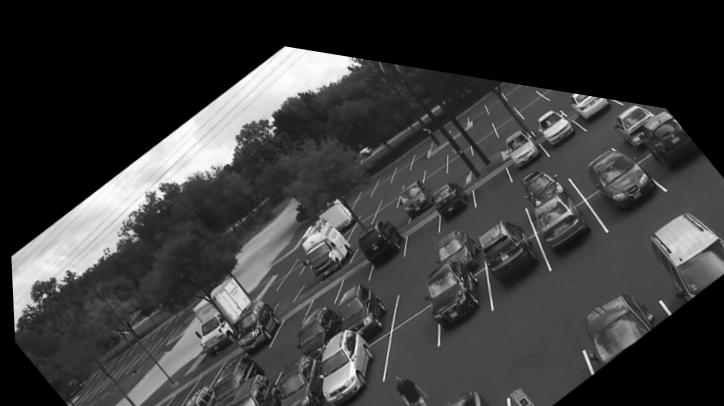empty: (500, 306, 583, 406), (378, 290, 430, 368), (470, 147, 513, 192), (559, 116, 605, 158), (269, 295, 305, 335), (303, 269, 338, 305), (396, 254, 422, 301), (406, 202, 434, 240), (484, 183, 518, 213), (517, 76, 552, 105), (188, 356, 219, 386), (277, 245, 305, 277), (336, 251, 365, 281), (495, 94, 524, 122), (472, 111, 499, 141), (260, 340, 288, 368), (444, 131, 470, 161), (162, 378, 189, 406), (509, 70, 539, 93), (446, 118, 470, 146), (488, 88, 517, 111), (371, 185, 396, 211), (483, 73, 508, 99), (347, 201, 371, 227), (469, 102, 492, 127), (423, 135, 445, 160), (423, 148, 446, 170), (354, 184, 376, 207), (377, 170, 399, 192), (411, 124, 428, 152), (402, 149, 421, 174), (468, 86, 488, 109), (391, 144, 408, 169), (352, 172, 372, 193), (499, 66, 526, 81), (372, 159, 389, 180), (147, 390, 169, 406), (541, 71, 565, 84), (380, 198, 403, 210), (555, 72, 573, 86), (445, 157, 463, 169)
occupied: (635, 185, 724, 279), (579, 264, 654, 345), (581, 123, 655, 193), (315, 317, 376, 395), (635, 85, 702, 151), (528, 168, 589, 237), (477, 201, 534, 274), (424, 242, 477, 317), (223, 292, 279, 350), (299, 207, 349, 271), (275, 345, 320, 406), (420, 367, 490, 406), (209, 349, 257, 405), (356, 207, 404, 263), (292, 293, 340, 348), (336, 271, 385, 323), (227, 366, 279, 406), (437, 216, 478, 257), (614, 84, 654, 123), (431, 167, 468, 208), (396, 165, 433, 204), (537, 91, 575, 127), (505, 112, 540, 151), (569, 74, 611, 104), (522, 153, 556, 183), (177, 379, 208, 406)
